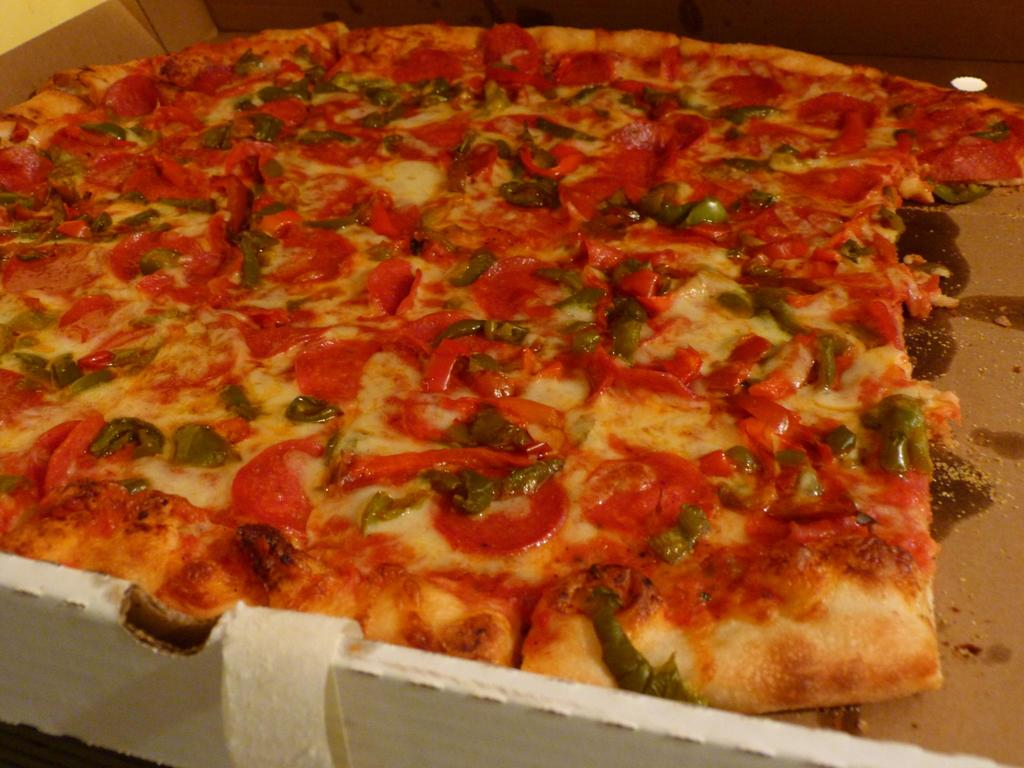Pizza: (0, 13, 975, 718)
